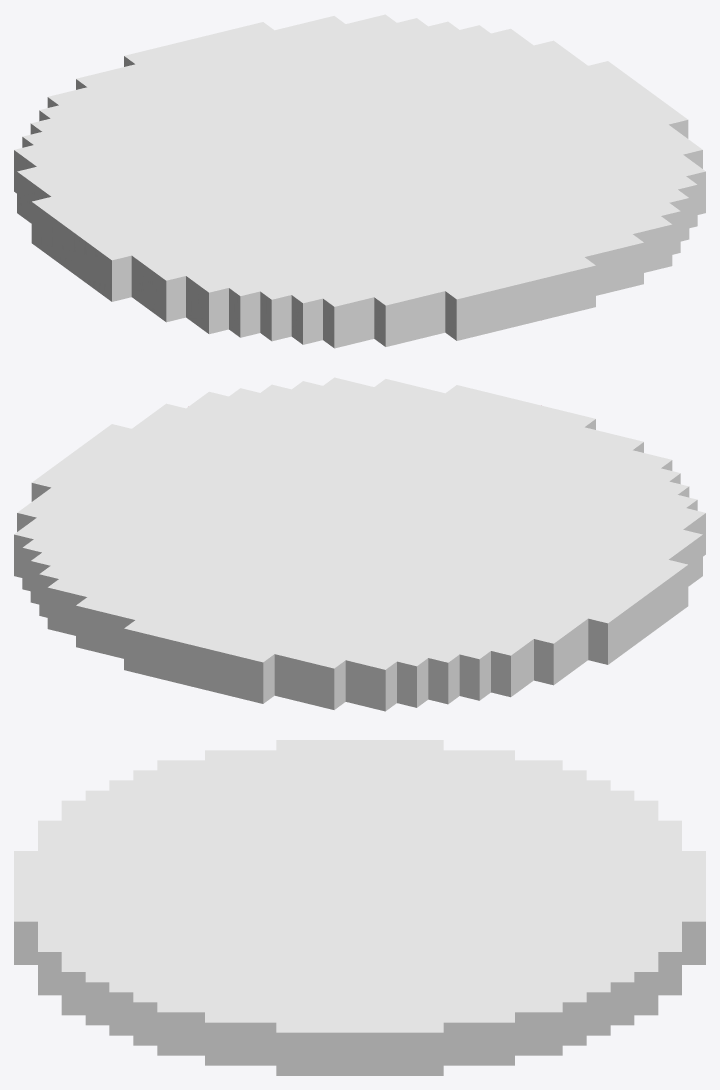
Rendered from patin.fbx.
The picture shows the model from 3 angles, top to bottom: view 1: azimuth 30°, elevation 25°; view 2: azimuth 150°, elevation 25°; view 3: azimuth 270°, elevation 25°; orthographic projection. The views are drawn at different scales.
Visible parts, largest first — view 1: patin.001; view 2: patin.001; view 3: patin.001.
Boxes of the visible parts, <box> form: patin.001: <box>14,14,705,348</box>; patin.001: <box>14,377,705,711</box>; patin.001: <box>14,740,705,1075</box>.
Bounding box in the file's own units: 2.9 × 0.2 × 2.9.
